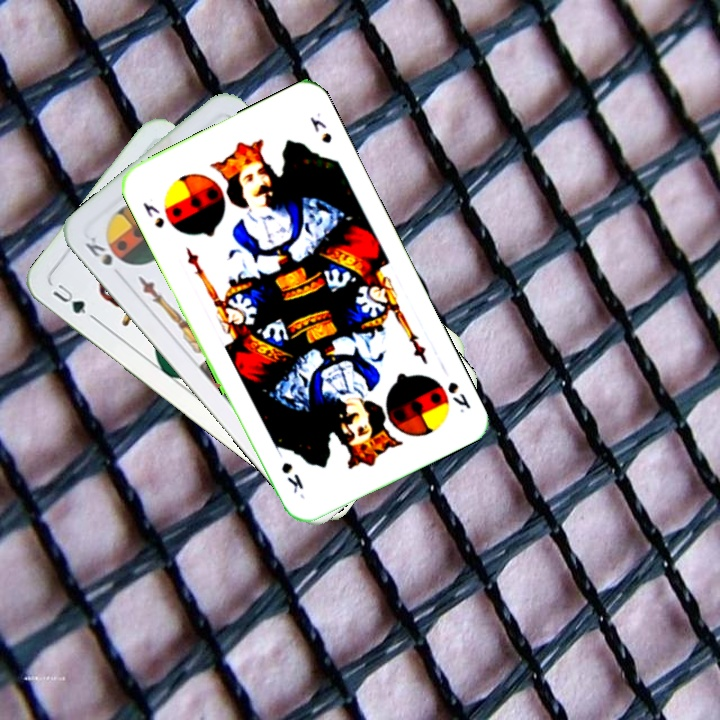GU: (48, 279, 89, 317)
SK: (81, 232, 116, 268), (443, 377, 474, 416), (138, 198, 167, 231)
